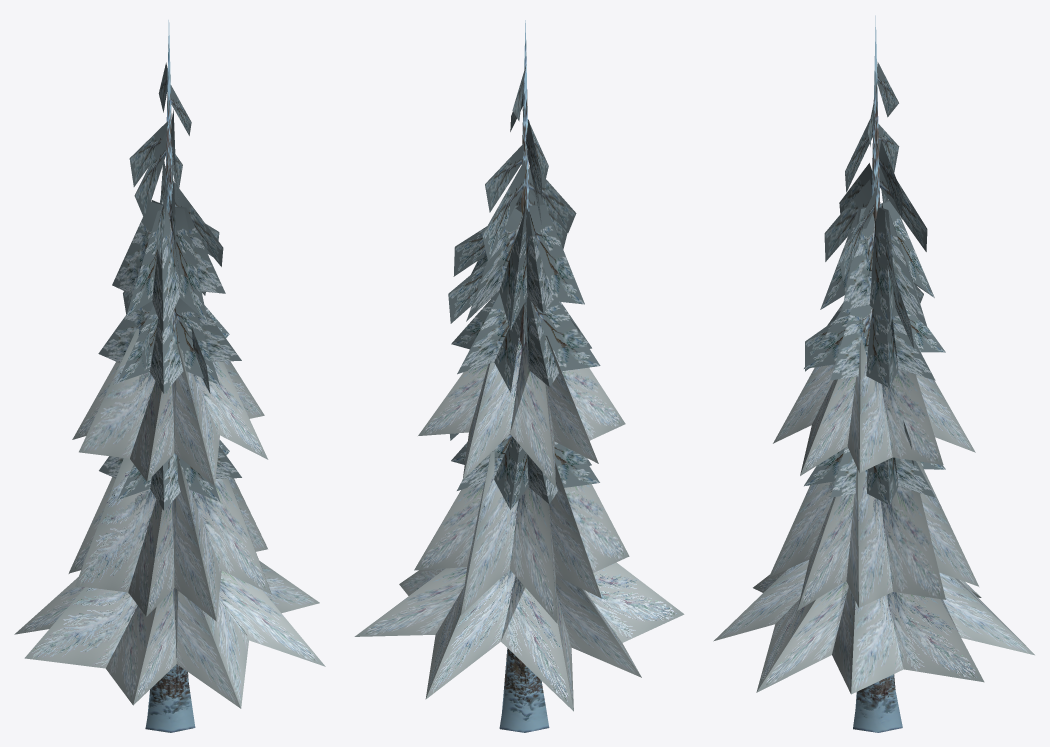
File: Scene_Tree_xuesongshu2.FBX
3 views of the same model, side by side, from view 1: azimuth 30°, elevation 25°; view 2: azimuth 150°, elevation 25°; view 3: azimuth 270°, elevation 25° (orthographic).
Visible parts, largest first — view 1: Scene_Tree_xuesongshu2_2, Scene_Tree_xuesongshu2_3, Scene_Tree_xuesongshu2_1; view 2: Scene_Tree_xuesongshu2_2, Scene_Tree_xuesongshu2_3, Scene_Tree_xuesongshu2_1; view 3: Scene_Tree_xuesongshu2_2, Scene_Tree_xuesongshu2_3, Scene_Tree_xuesongshu2_1.
Boxes of the visible parts, x1,y1,x2,y2 form: Scene_Tree_xuesongshu2_2: (14, 328, 325, 708); Scene_Tree_xuesongshu2_3: (98, 62, 241, 510); Scene_Tree_xuesongshu2_1: (145, 20, 195, 732); Scene_Tree_xuesongshu2_2: (354, 335, 684, 711); Scene_Tree_xuesongshu2_3: (448, 64, 600, 509); Scene_Tree_xuesongshu2_1: (499, 20, 549, 732); Scene_Tree_xuesongshu2_2: (713, 339, 1034, 694); Scene_Tree_xuesongshu2_3: (804, 62, 945, 505); Scene_Tree_xuesongshu2_1: (853, 15, 902, 732).
Size of the model in its own units: 506 by 1270 by 525.
